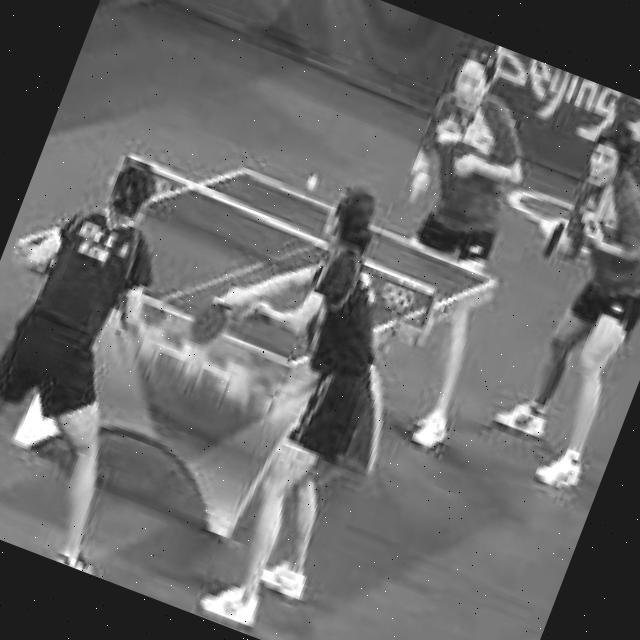ping-pong-ball: (304, 170, 322, 196)
